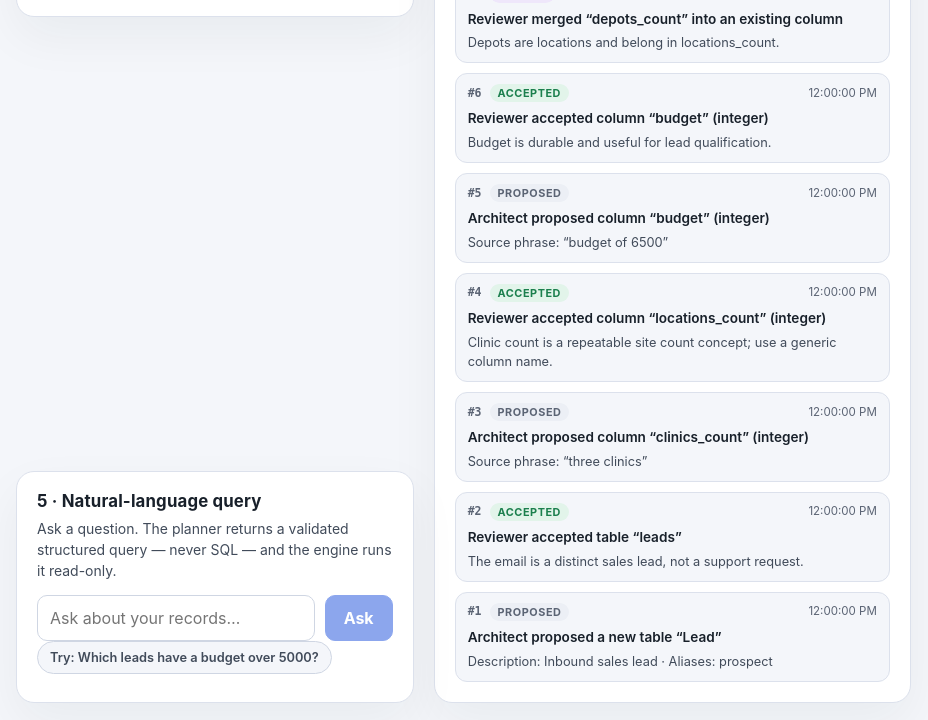
Test: Demo web app (fake model pattern, no network) › answers the example natural-language question with the interpreted query
This screenshot has width=928, height=720.
(page scrolled)
Click the button "Try: Which leads have a budget over 5000?" at (184, 657), box [37, 640, 332, 674]
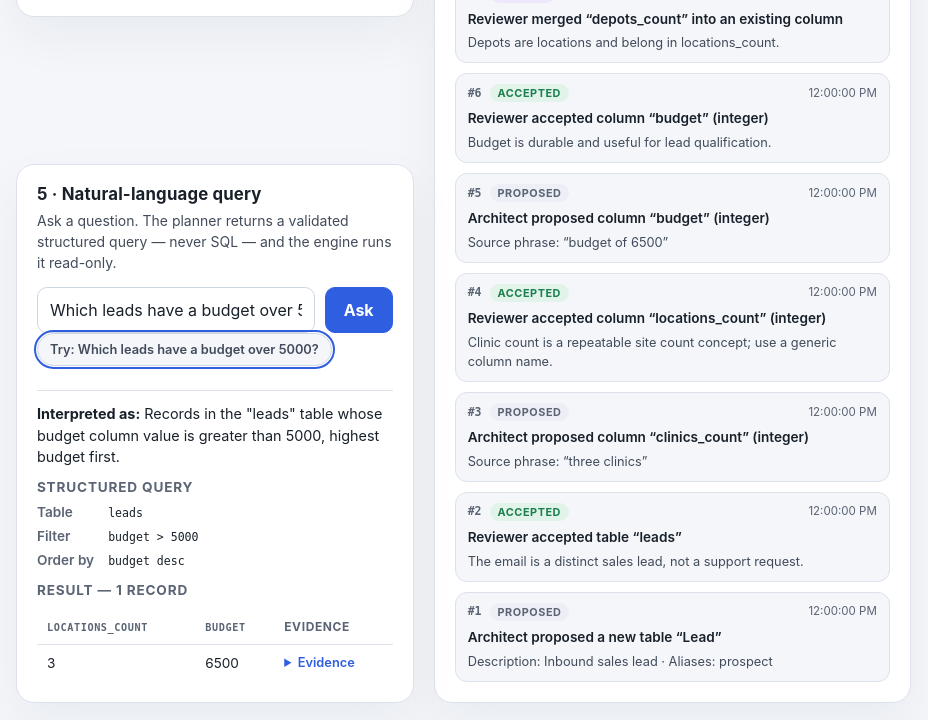
Now the element with test id "query-result" shows "Interpreted as:", box [37, 405, 140, 422]
Now the element with test id "query-result" shows "budget > 5000", box [108, 530, 198, 544]
Now the element with test id "query-result" shows "1 record", box [37, 390, 393, 682]
